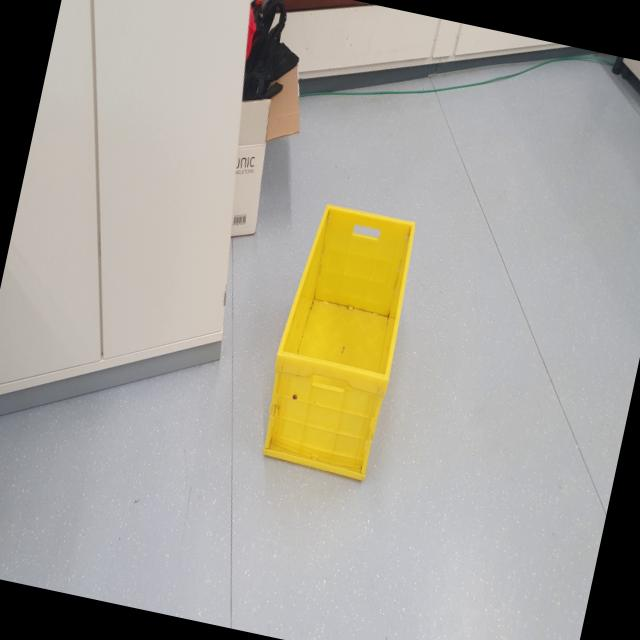box: (246, 186, 429, 497)
